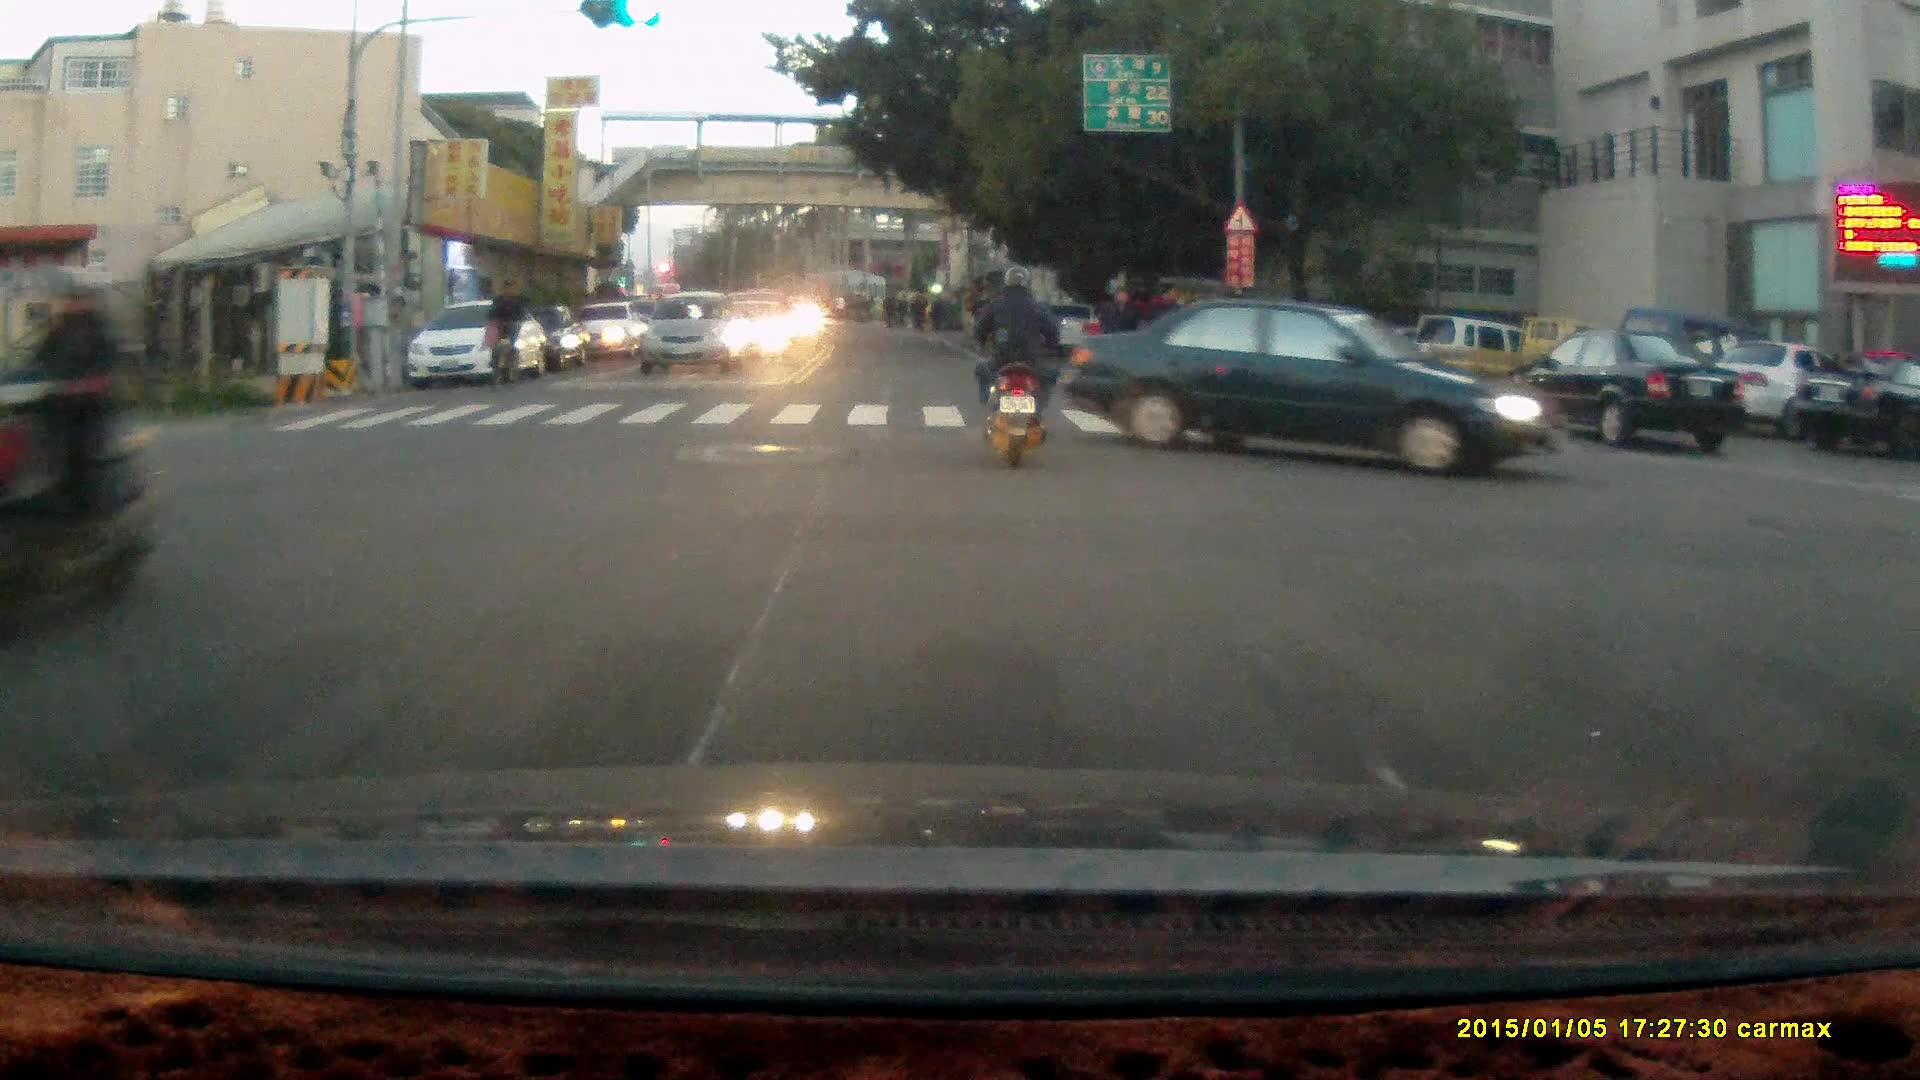pedestrian: (1104, 285, 1136, 375)
rider: (0, 260, 154, 645), (969, 263, 1063, 467), (482, 274, 525, 387)
vehicle: (1053, 288, 1561, 480), (1509, 327, 1746, 453), (1414, 317, 1638, 412), (1691, 337, 1880, 440), (1789, 352, 1920, 459), (406, 293, 553, 387), (636, 291, 751, 377)
